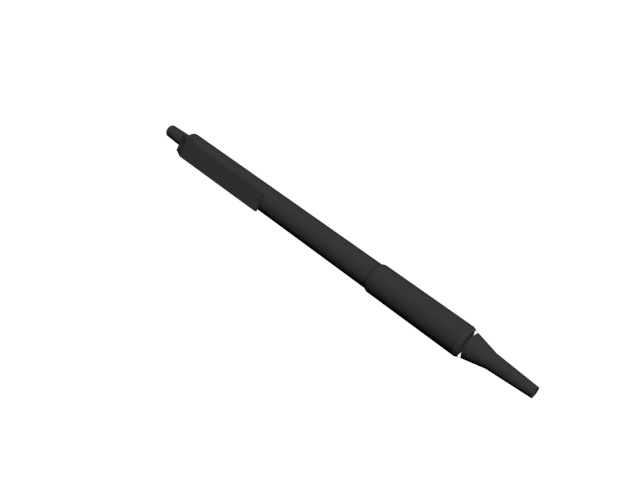pen: (161, 121, 544, 400)
